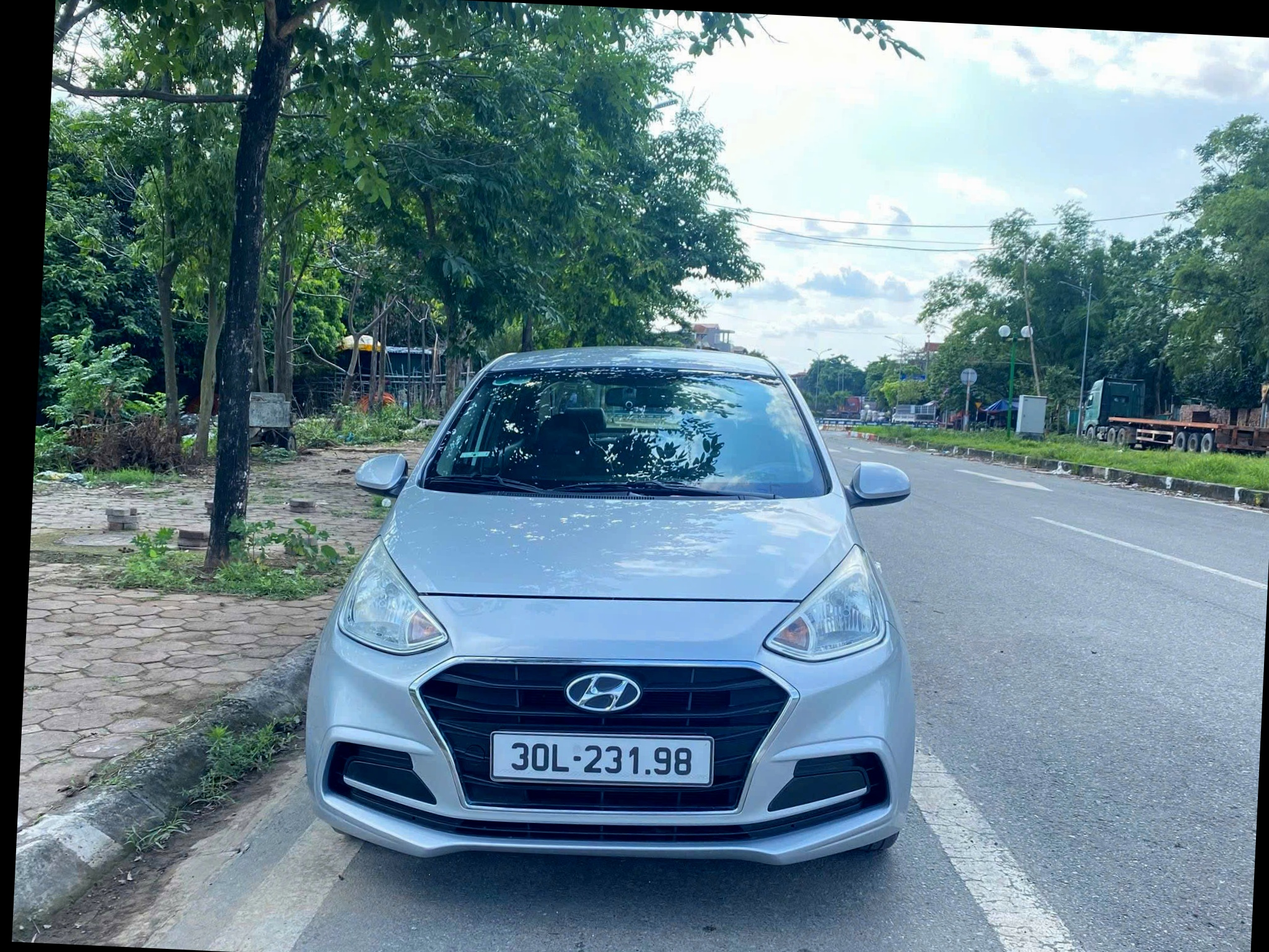Bien-so: (494, 731, 712, 783)
